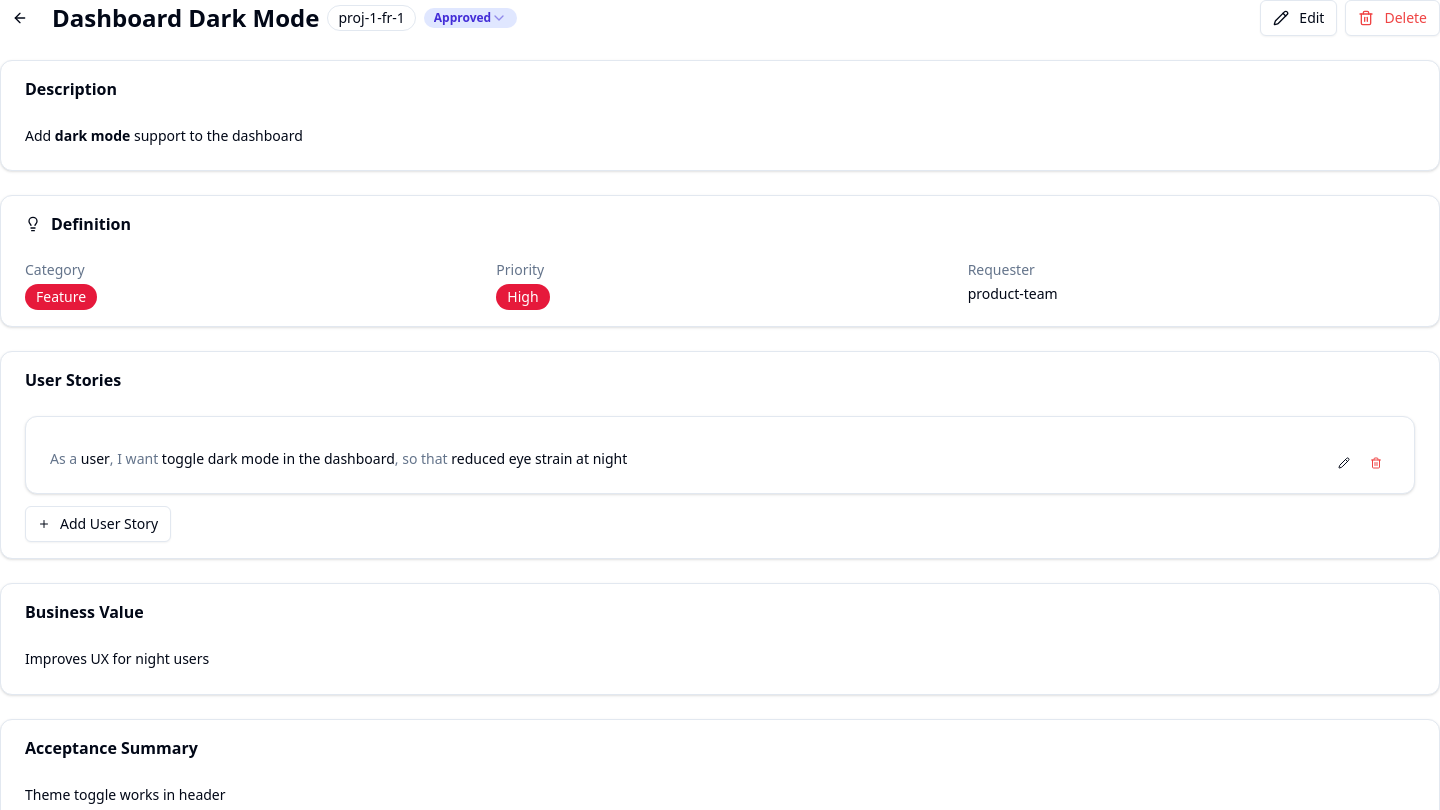
Test: FeatureRequestDetailPage › shows delete confirmation dialog
Expected: the heading "Dashboard Dark Mode" is shown, [52,2,320,34]
Click the button "Delete" at {"x": 1393, "y": 18}, box [1345,0,1439,36]
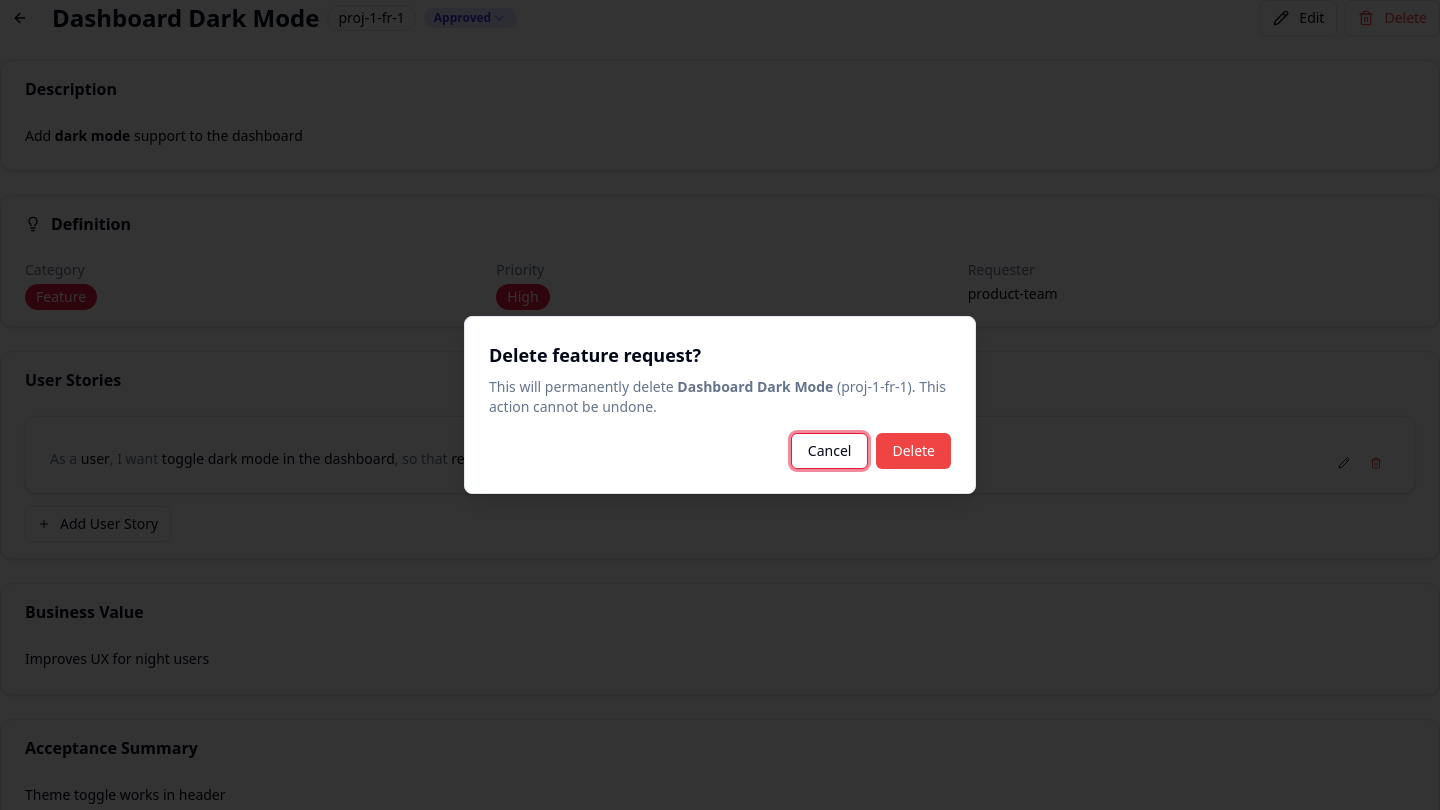
Result: the heading "Delete feature request?" is shown at [489,343,701,367]
